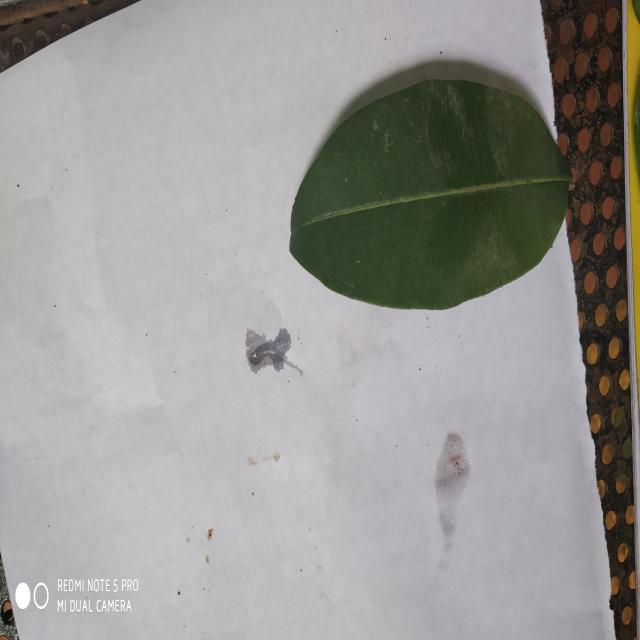sapota: (290, 80, 571, 309)
